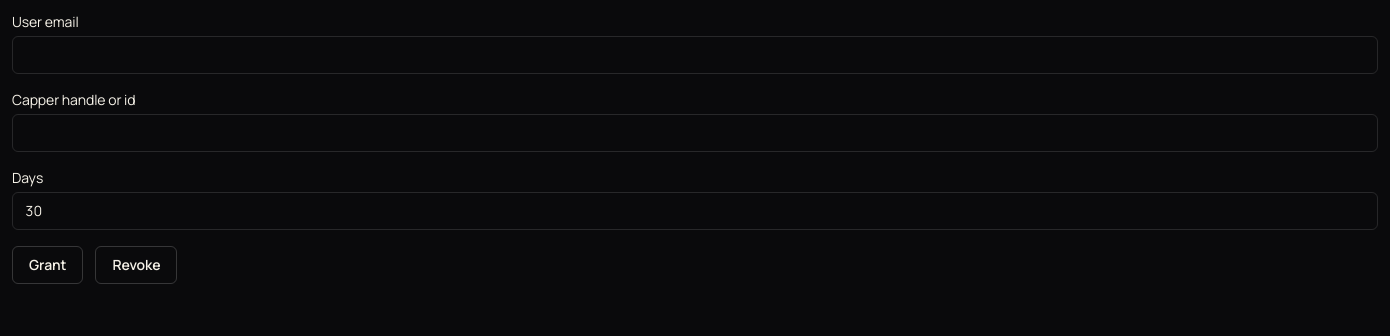
Scenario: VipGrantForm › grant shows result line
In the field labelled "User email": (695, 55) x1=12 y1=36 x2=1378 y2=74, type "a@b.com"
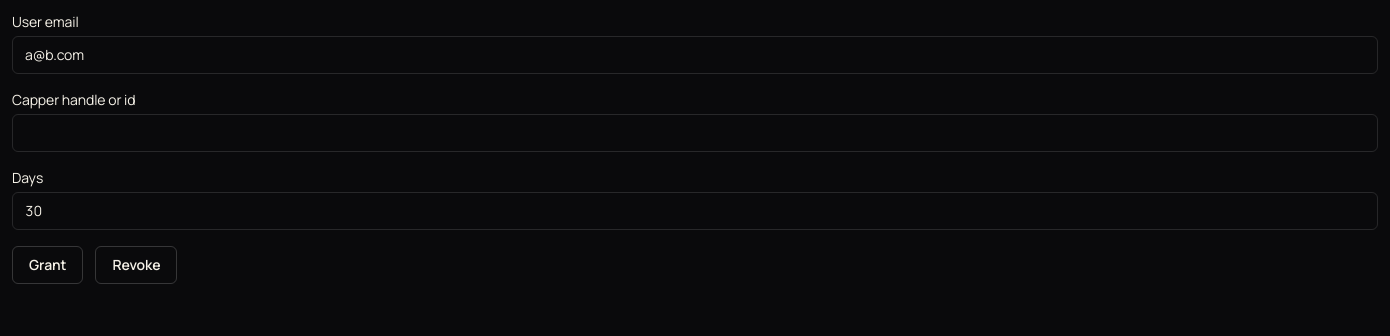
In the field labelled "Capper handle or id": (695, 133) x1=12 y1=114 x2=1378 y2=152, type "@swampy"
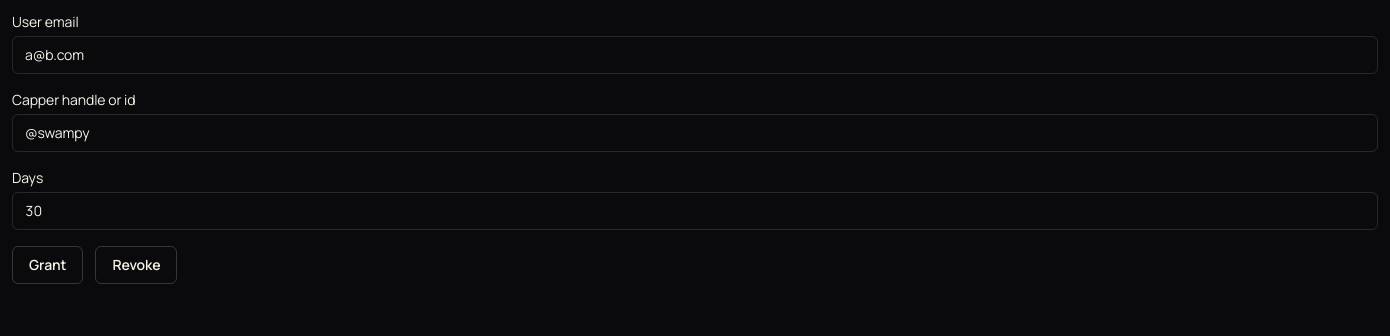
Click the button "Grant": (48, 265) x1=12 y1=246 x2=83 y2=284
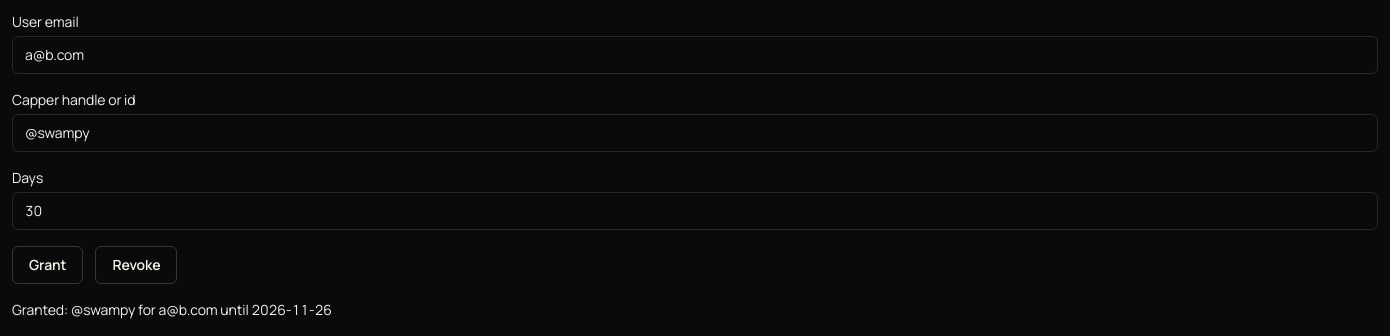
expect the text "Granted: @swampy for a@b.com until 2026-11-26" is shown: met, box x1=12 y1=300 x2=332 y2=319
